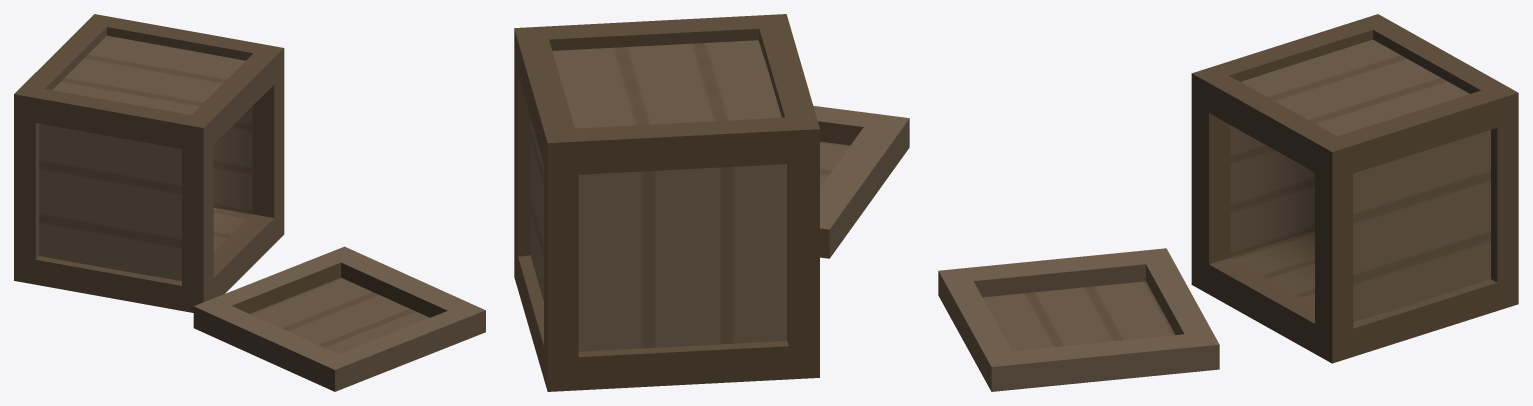
Rendered from SD_Prop_Crate_03.fbx.
The picture shows the model from 3 angles, left to right: view 1: azimuth 30°, elevation 25°; view 2: azimuth 150°, elevation 25°; view 3: azimuth 270°, elevation 25°; orthographic projection. The views are drawn at different scales.
Parts seen in each view (by area): view 1: SD_Prop_Crate_03; view 2: SD_Prop_Crate_03; view 3: SD_Prop_Crate_03.
Part boxes in pixels (<box>): SD_Prop_Crate_03: <box>14,14,485,391</box>; SD_Prop_Crate_03: <box>514,14,909,391</box>; SD_Prop_Crate_03: <box>938,14,1518,391</box>.
Size of the model in its own units: 1.86 by 1.1 by 2.74.
